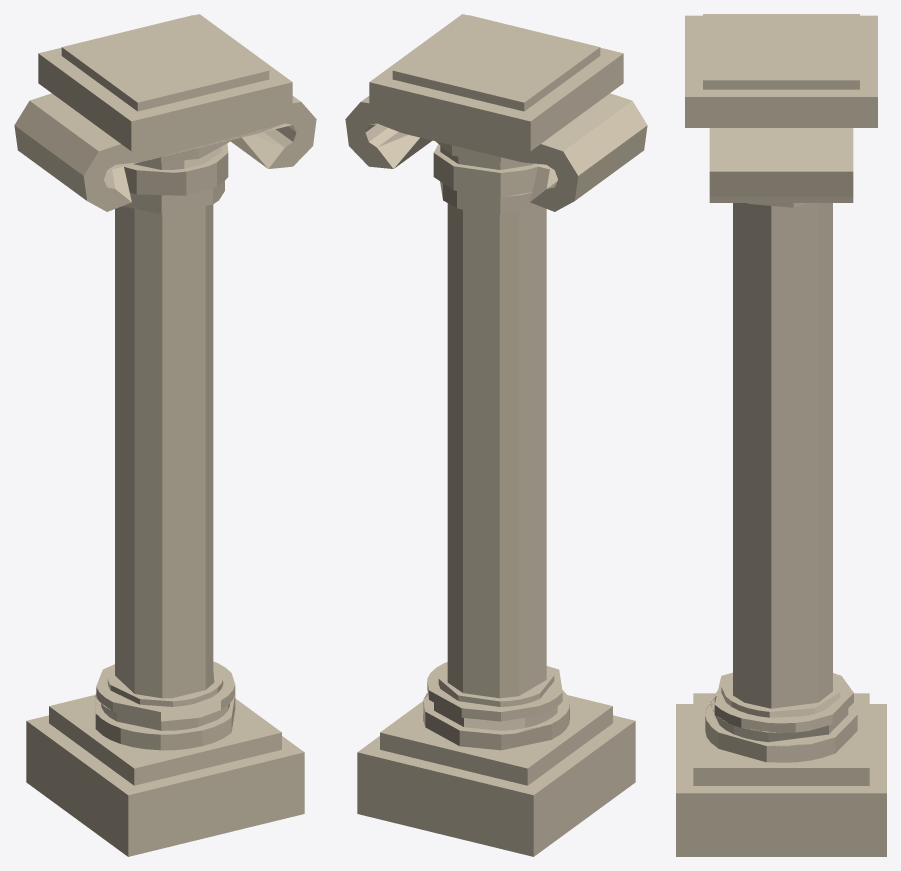
Rendered from Pillar.fbx.
3 renders of one model, left to right at view 1: azimuth 30°, elevation 25°; view 2: azimuth 150°, elevation 25°; view 3: azimuth 270°, elevation 25°, orthographic. The views are drawn at different scales.
Visible parts, largest first — view 1: Cube; view 2: Cube; view 3: Cube.
Boxes of the visible parts, box(x1,y1,x2,y2) form: Cube: box(14, 14, 316, 856); Cube: box(345, 14, 647, 856); Cube: box(676, 14, 886, 856).
Bounding box in the file's own units: 132 × 401 × 100.
